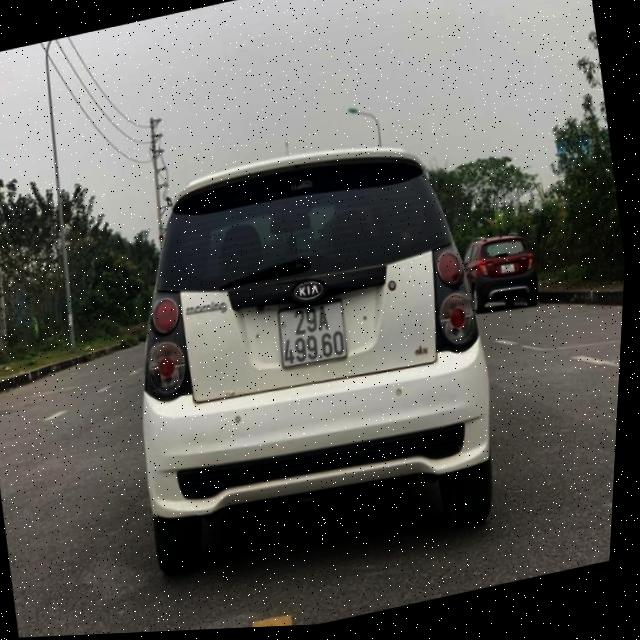car: (87, 111, 523, 600), (452, 220, 550, 323)
plate: (261, 288, 363, 377), (467, 229, 541, 310), (483, 250, 531, 287), (493, 257, 522, 281)
